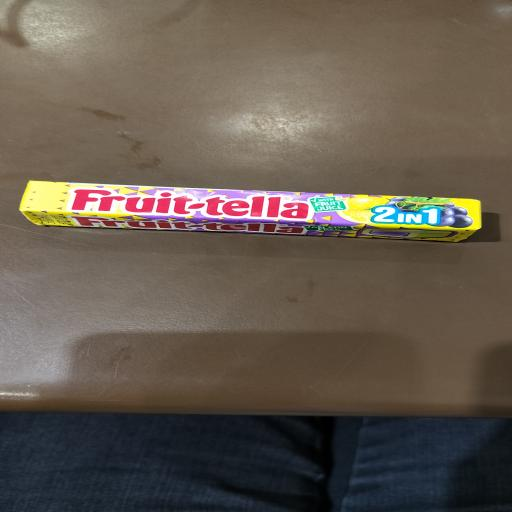Fruit-Tella: (62, 184, 313, 230)
chocolate: (8, 169, 495, 256)
